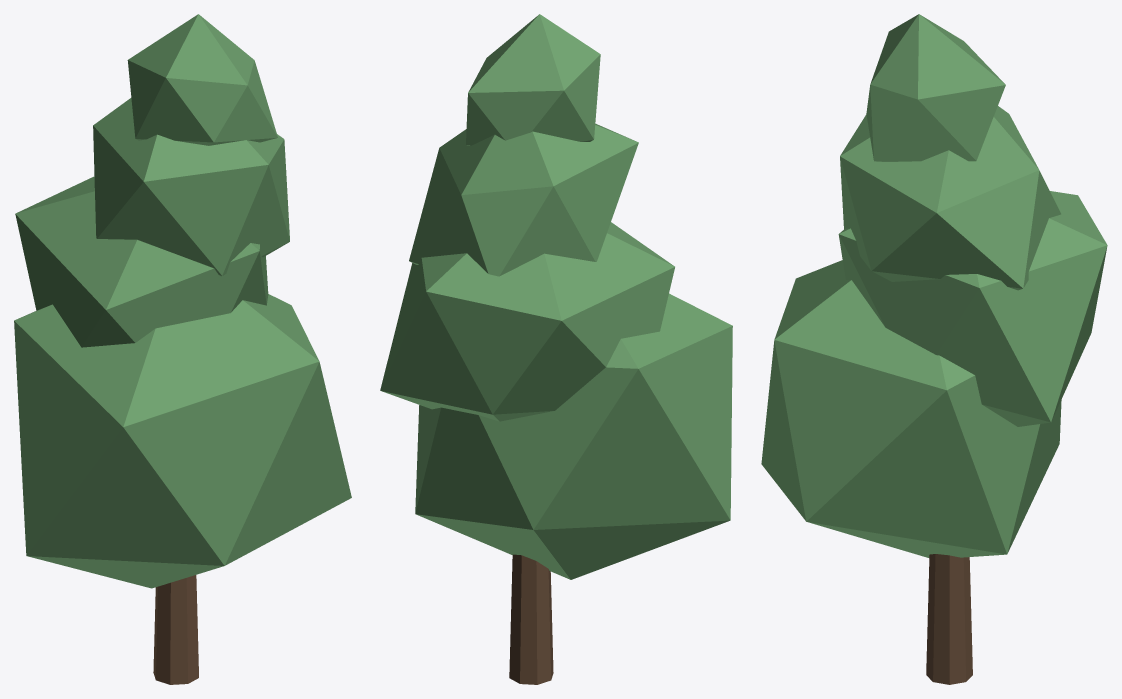
File: tree.fbx
3 renders of one model, left to right at view 1: azimuth 30°, elevation 25°; view 2: azimuth 150°, elevation 25°; view 3: azimuth 270°, elevation 25°, orthographic. The views are drawn at different scales.
Visible parts, largest first — view 1: Tree; view 2: Tree; view 3: Tree.
Boxes of the visible parts, x1,y1,x2,y2 form: Tree: (14,14,351,684); Tree: (380,14,732,684); Tree: (761,14,1107,684).
Bounding box in the file's own units: 2.28 × 5.01 × 2.37.
